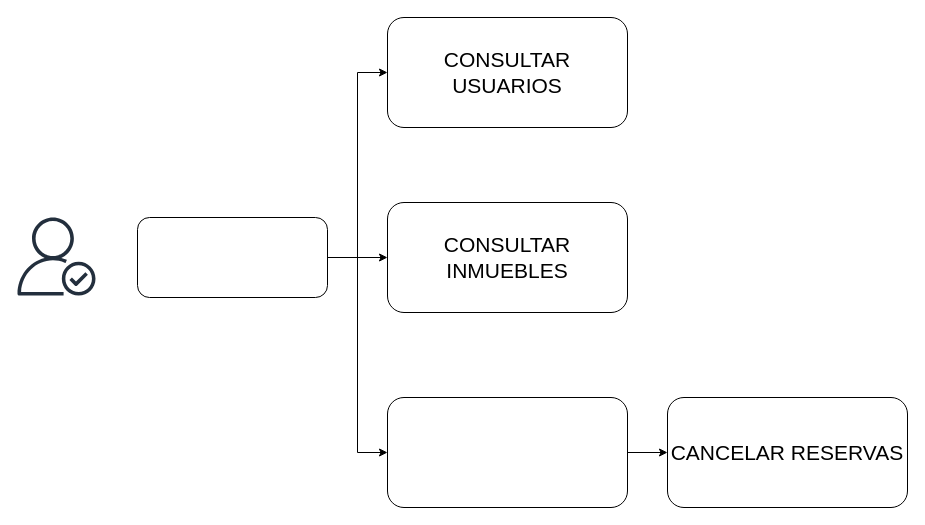
This 925x525 diagram has some shape labels left out. Each missing label, with the centre of its shape:
CONSULTAR RESERVAS: the point at 507,452
LOGIN: the point at 232,257
